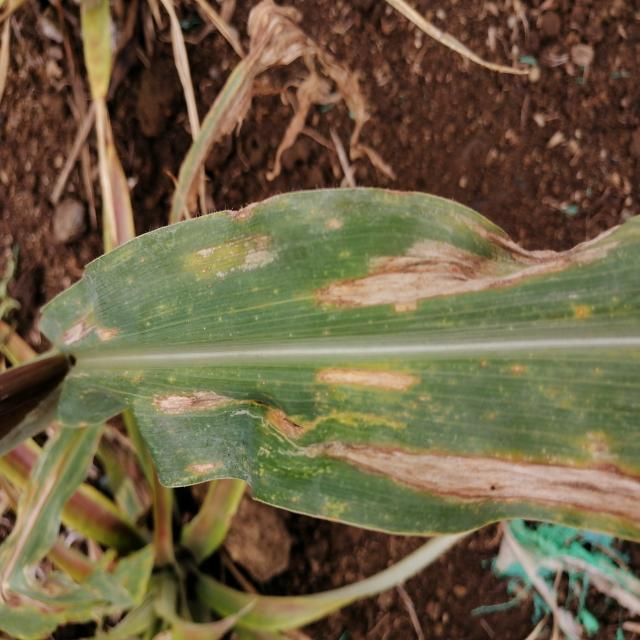Corn_Leaf_Blight: (59, 189, 640, 530)
